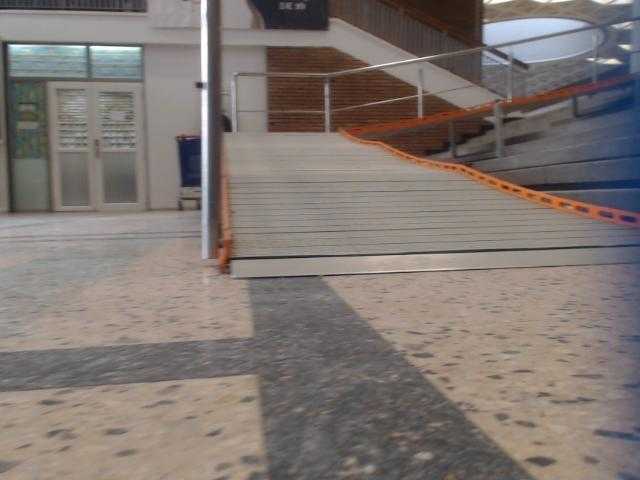rampUp: (220, 132, 639, 277)
ramps-railing: (234, 20, 626, 77), (202, 0, 221, 258), (329, 85, 476, 114), (506, 49, 512, 99), (232, 74, 237, 132), (417, 70, 423, 117), (325, 79, 330, 132), (270, 110, 325, 113)
